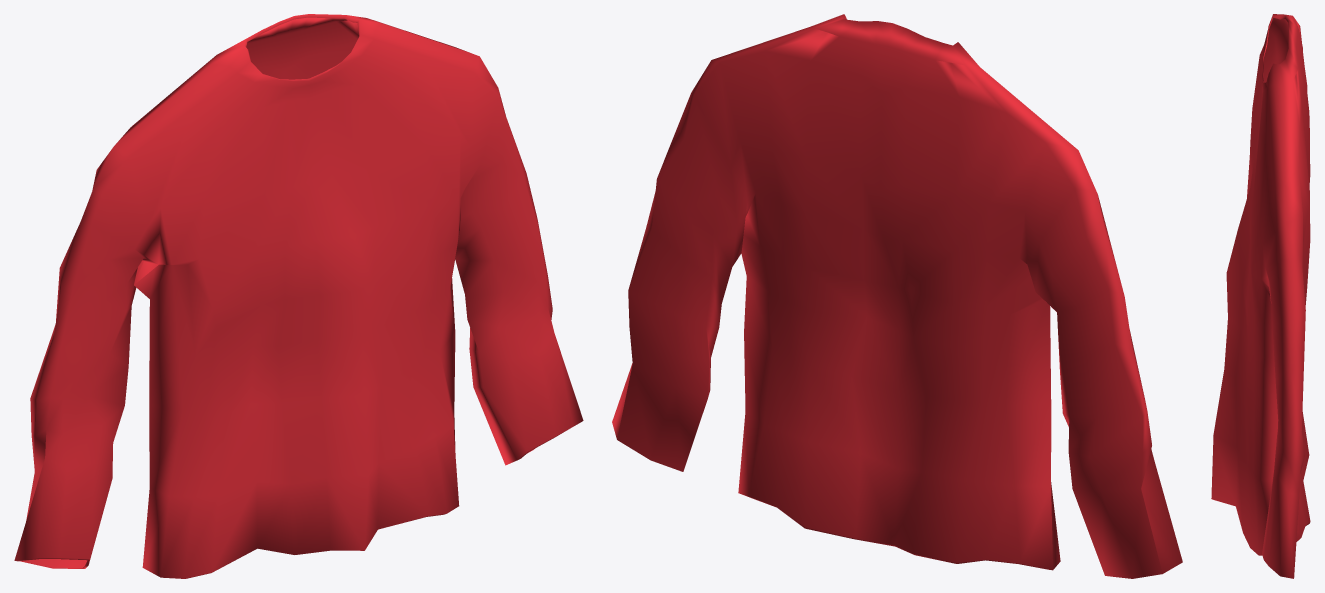
The model's file is TShirt_Red.fbx.
3 renders of one model, left to right at view 1: azimuth 30°, elevation 25°; view 2: azimuth 150°, elevation 25°; view 3: azimuth 270°, elevation 25°, orthographic. The views are drawn at different scales.
Visible parts, largest first — view 1: body.001; view 2: body.001; view 3: body.001.
Part boxes in pixels (x1,y1,x2,y2): body.001: (14,14,583,578); body.001: (612,14,1182,578); body.001: (1211,14,1310,578).
Size of the model in its own units: 222 by 195 by 37.21.
